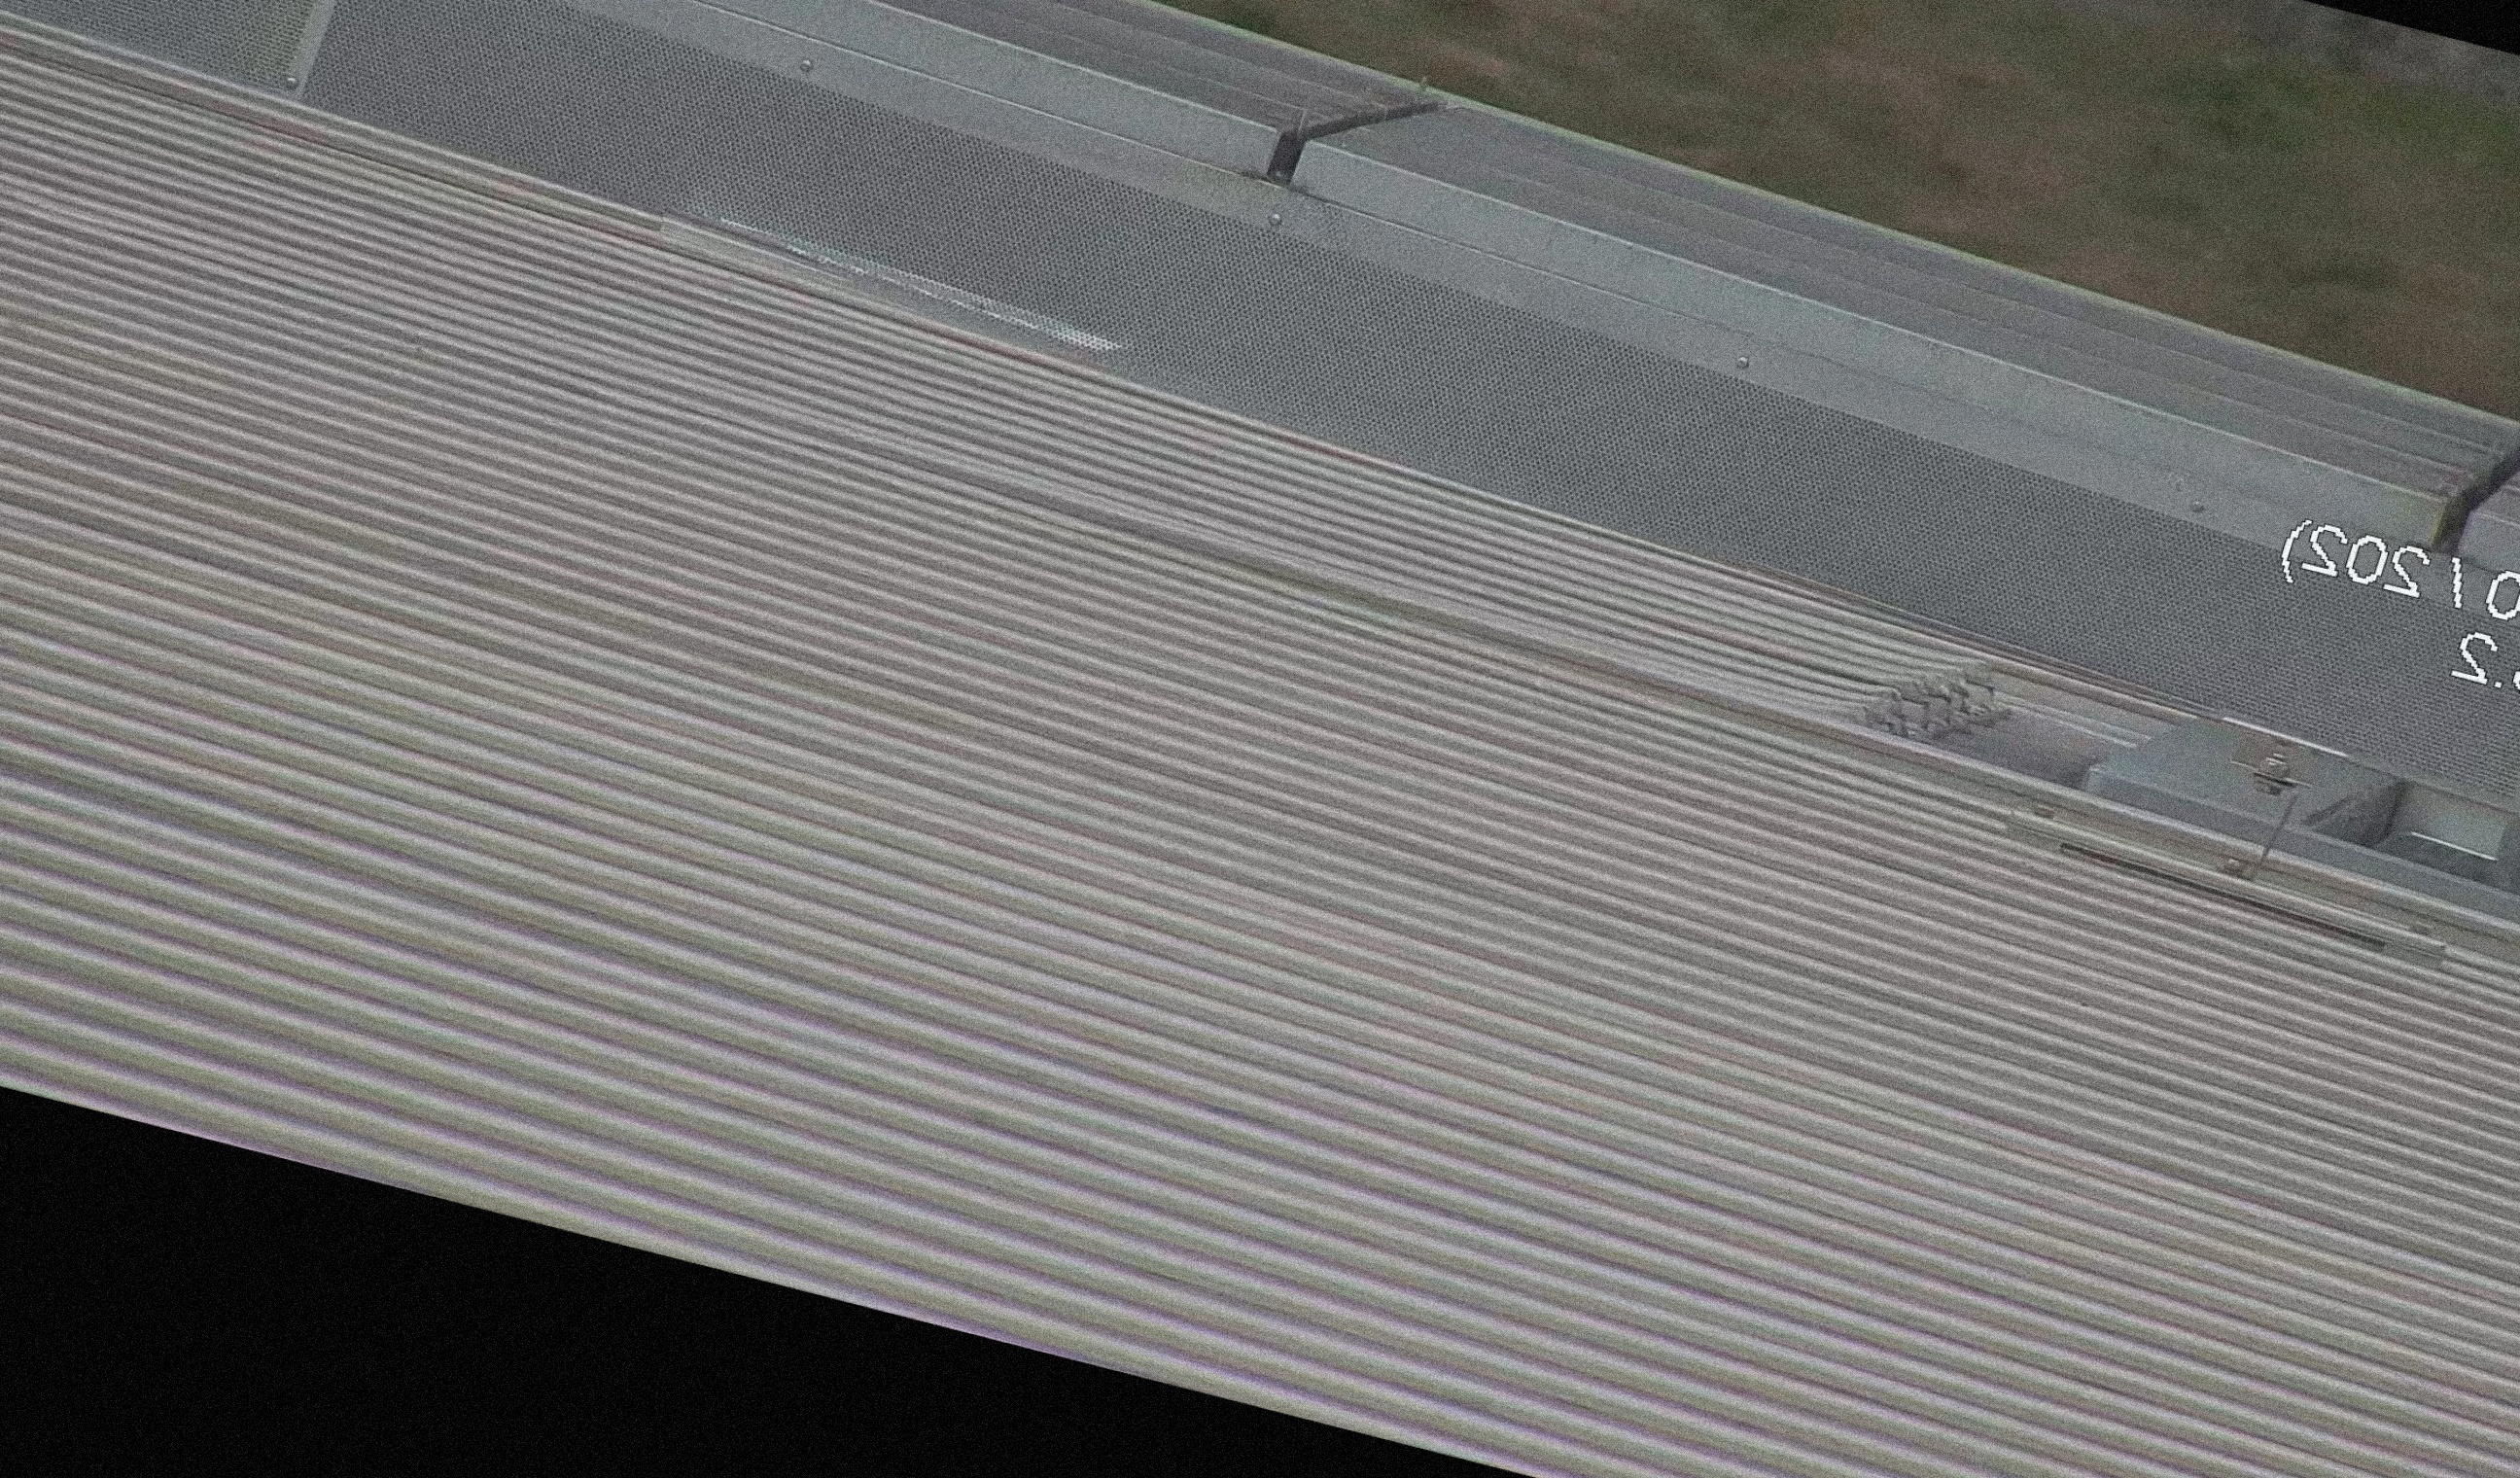Other: (2413, 410, 2520, 607)
